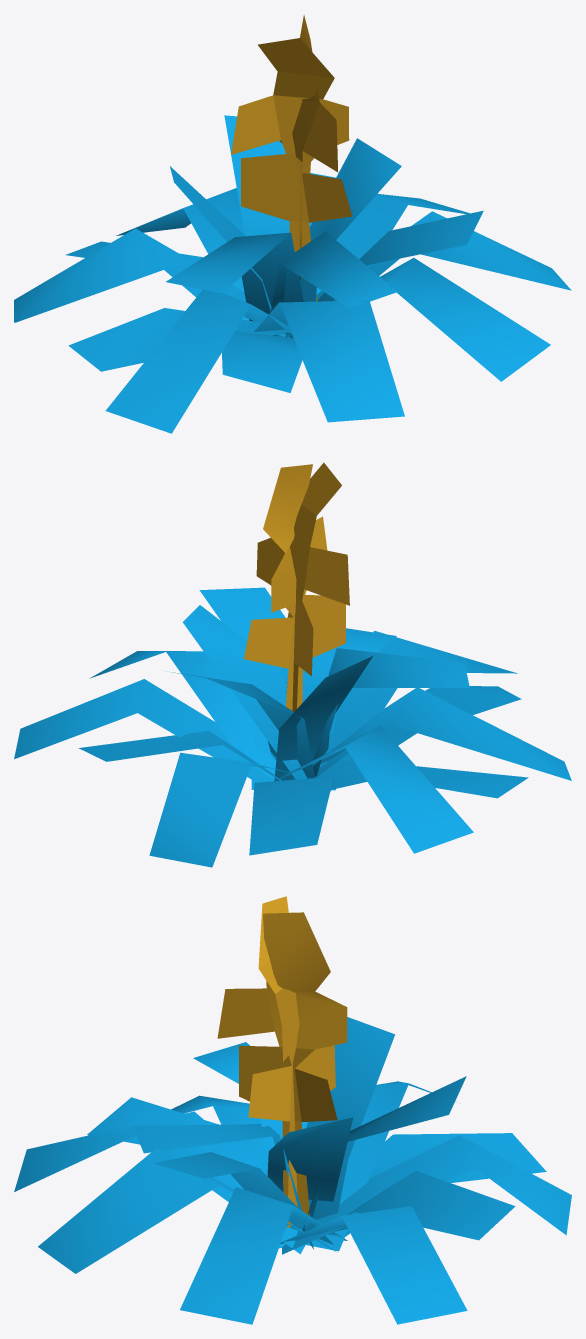
File: Fiore_azzurro.fbx
3 views of the same model, one above another, from view 1: azimuth 30°, elevation 25°; view 2: azimuth 150°, elevation 25°; view 3: azimuth 270°, elevation 25° (orthographic). The views are drawn at different scales.
Visible parts, largest first — view 1: Fiore.002; view 2: Fiore.002; view 3: Fiore.002.
Boxes of the visible parts, bbox=[...] form: Fiore.002: bbox=[14, 15, 571, 433]; Fiore.002: bbox=[14, 462, 571, 867]; Fiore.002: bbox=[14, 896, 571, 1324].
Size of the model in its own units: 1567 by 1025 by 1552.
